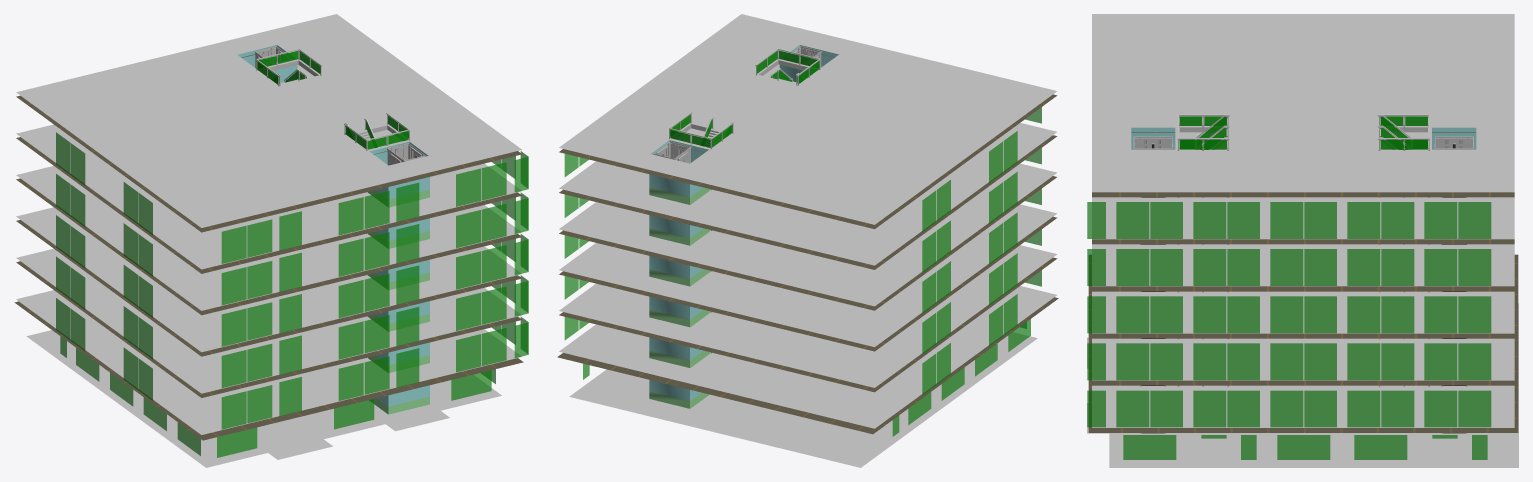
Rendered from SM_Building12_Interior01.fbx.
The picture shows the model from 3 angles, left to right: view 1: azimuth 30°, elevation 25°; view 2: azimuth 150°, elevation 25°; view 3: azimuth 270°, elevation 25°; orthographic projection. The views are drawn at different scales.
Parts seen in each view (by area): view 1: SM_Building12_Interior01; view 2: SM_Building12_Interior01; view 3: SM_Building12_Interior01.
Boxes of the visible parts, bbox=[...] form: SM_Building12_Interior01: bbox=[14, 14, 528, 467]; SM_Building12_Interior01: bbox=[557, 14, 1058, 467]; SM_Building12_Interior01: bbox=[1087, 14, 1518, 467].
Bounding box in the file's own units: 3373 × 2644 × 3364.
